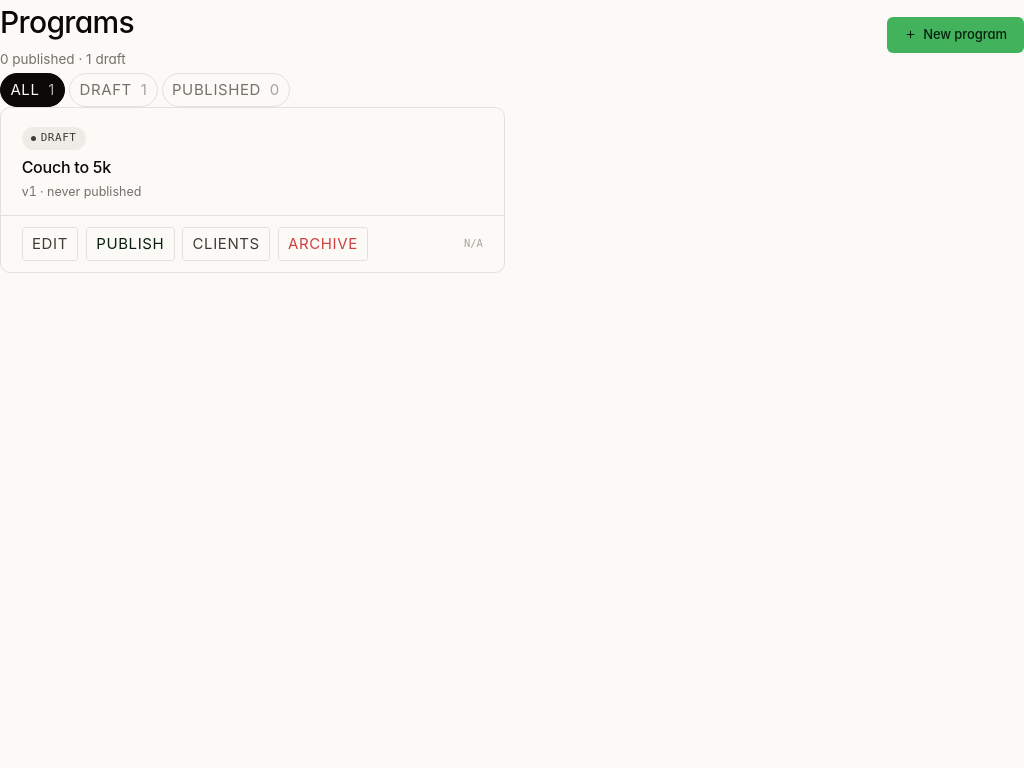
Scenario: Programs when the plan refuses a publish › says what the plan leaves out, instead of a raw toast
The image size is (1024, 768).
Click the button "Publish".
click(130, 244)  # box top-left (86, 227), bottom-right (175, 261)
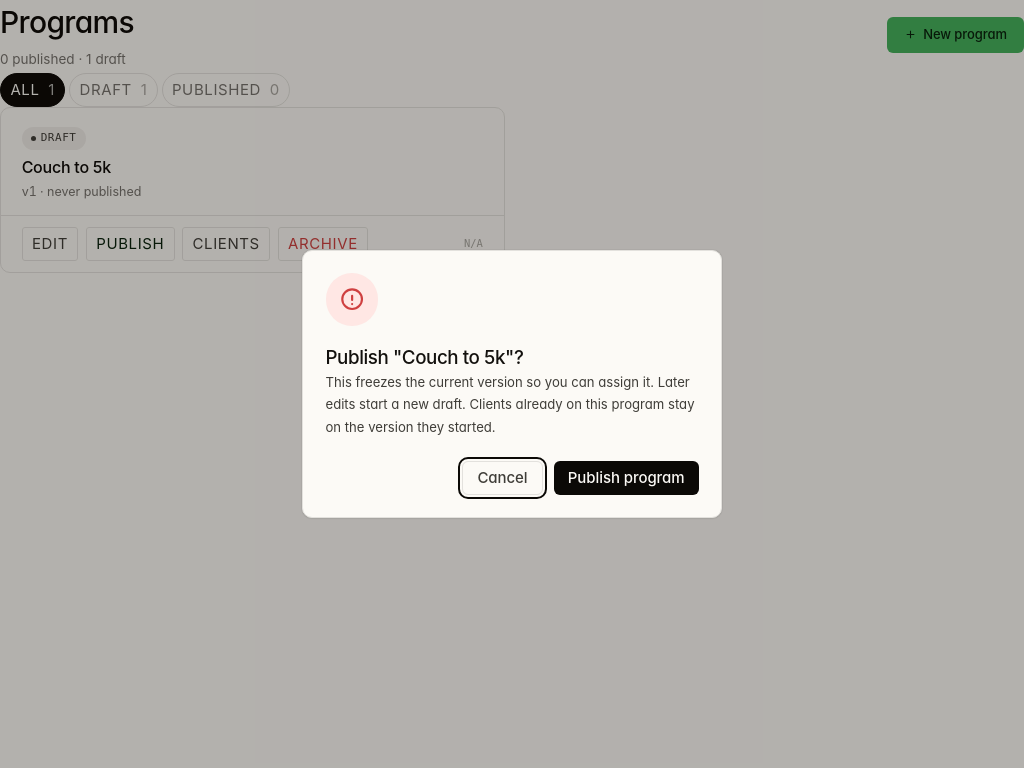
Click the button "Publish program".
click(626, 478)  # box top-left (554, 461), bottom-right (698, 495)
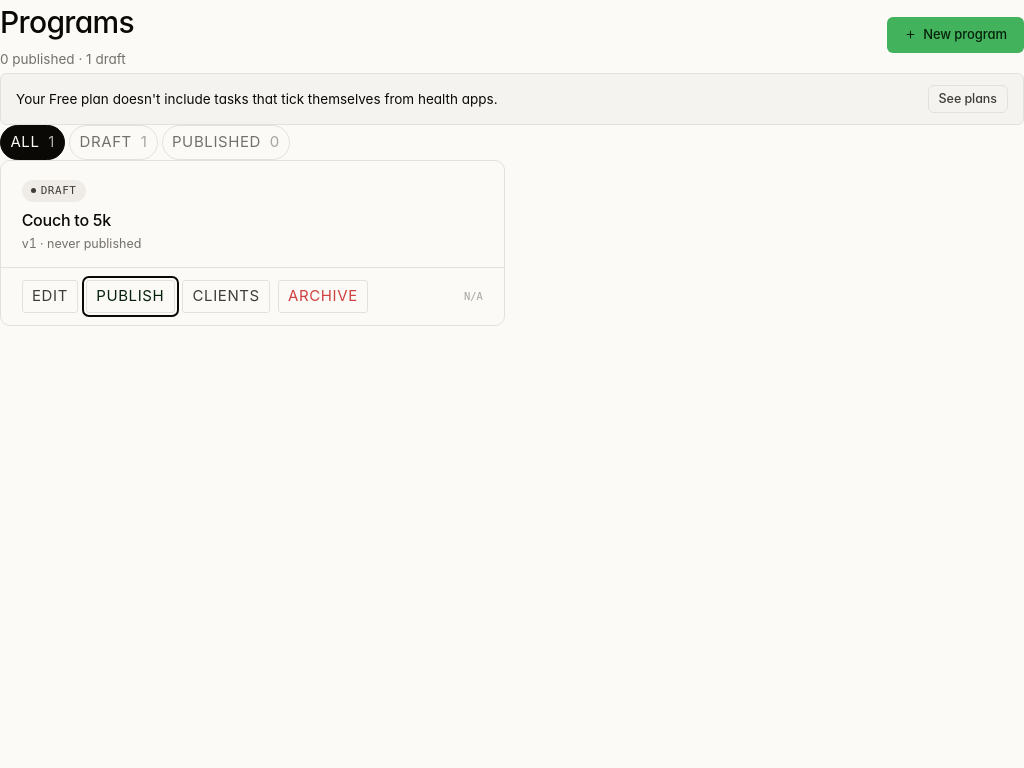
Now the message with test id "plan-gate" shows "Your Free plan doesn't include tasks that tick themselves from health apps.", box top-left (16, 91), bottom-right (498, 107)
Now the link "See plans" is shown, box top-left (928, 85), bottom-right (1008, 113)
